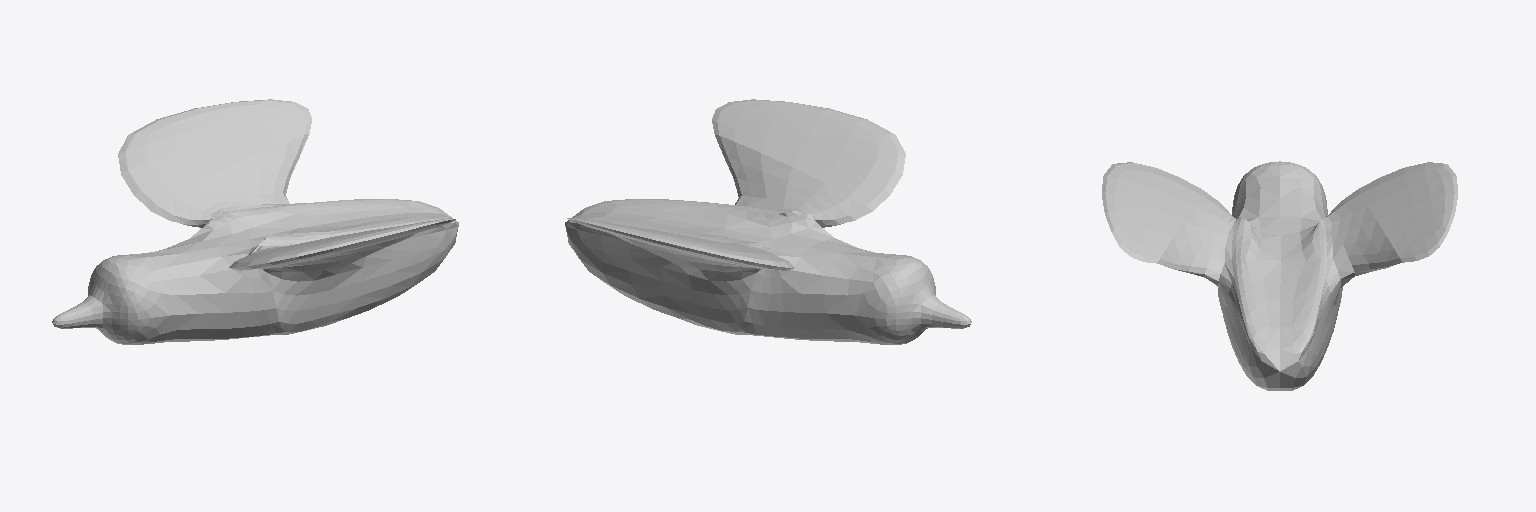
Rendered from bird_000003.obj.
3 renders of one model, left to right at view 1: azimuth 30°, elevation 25°; view 2: azimuth 150°, elevation 25°; view 3: azimuth 270°, elevation 25°, orthographic.
Visible parts, largest first — view 1: Cube; view 2: Cube; view 3: Cube.
Part boxes in pixels (left/top/right/bottom): Cube: left=52, top=99, right=458, bottom=344; Cube: left=565, top=99, right=971, bottom=344; Cube: left=1102, top=161, right=1457, bottom=390.
Bounding box in the file's own units: 0.3355 × 0.1208 × 0.2552.